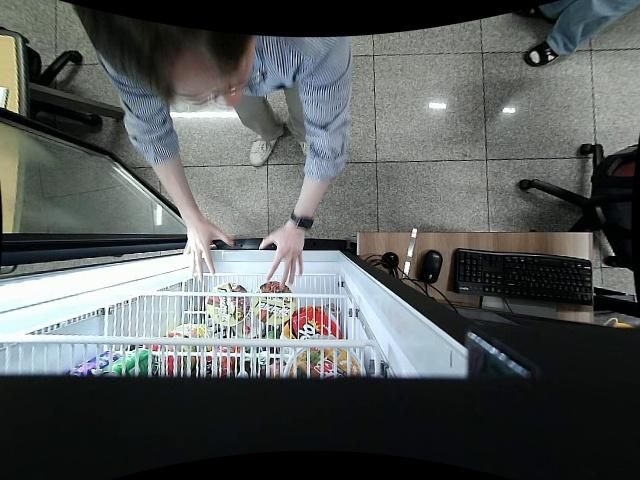00_hand: (183, 226, 235, 281), (259, 228, 304, 289)
